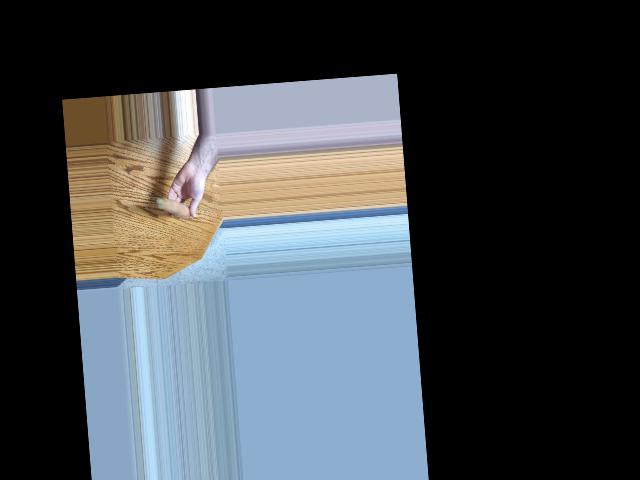sweet_potato: (155, 193, 193, 220)
